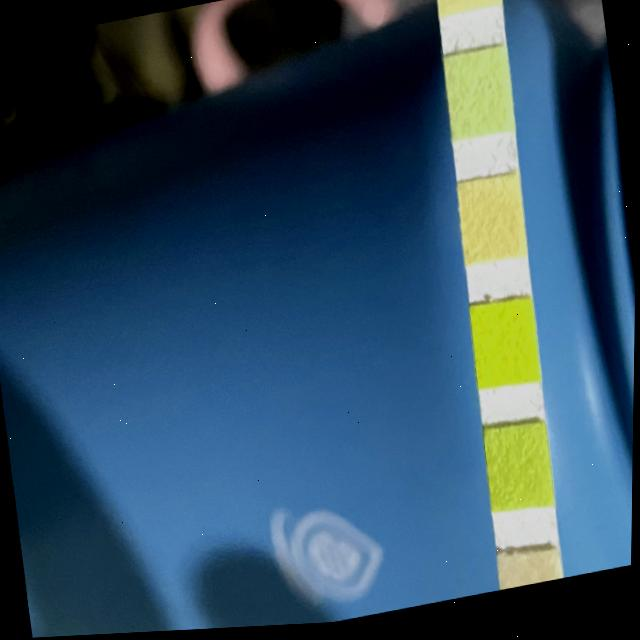Blood: (472, 303, 539, 389)
Ketone: (501, 556, 562, 596)
Protein: (445, 55, 514, 140)
SpGravity: (486, 429, 555, 512)
Urobilinogen: (434, 0, 501, 15)
pH: (459, 179, 526, 266)
